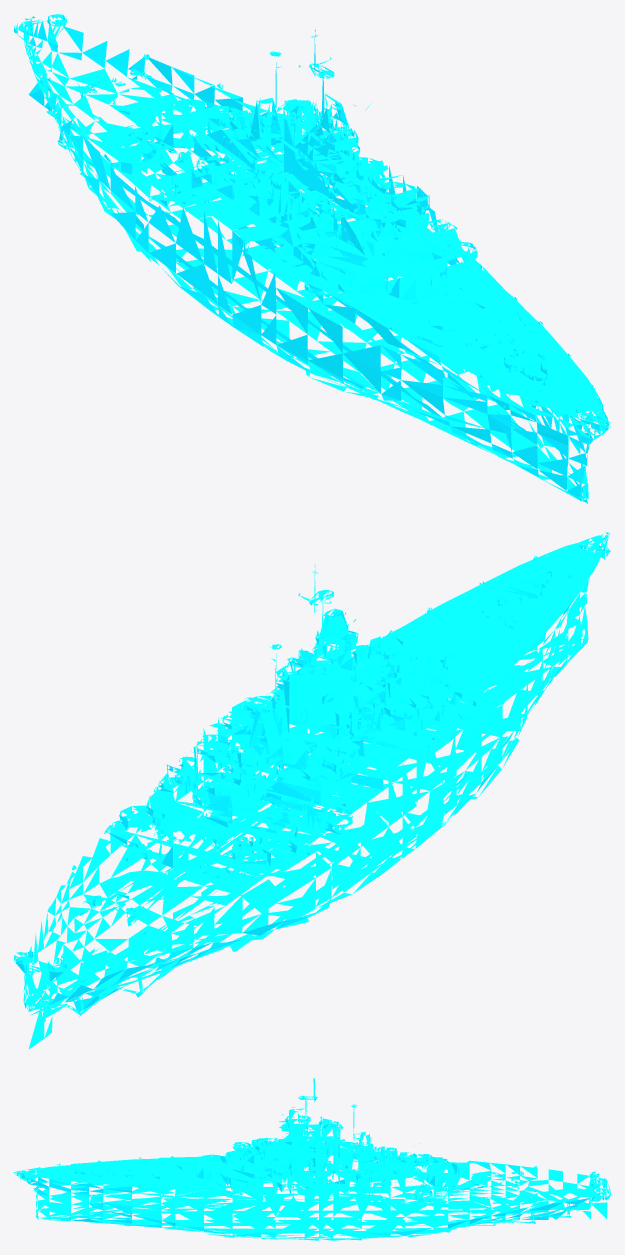
The model's file is California.glb.
3 views of the same model, one above another, from view 1: azimuth 30°, elevation 25°; view 2: azimuth 150°, elevation 25°; view 3: azimuth 270°, elevation 25° (orthographic). The views are drawn at different scales.
Bounding box in the file's own units: 2.35 × 3.32 × 12.66.
